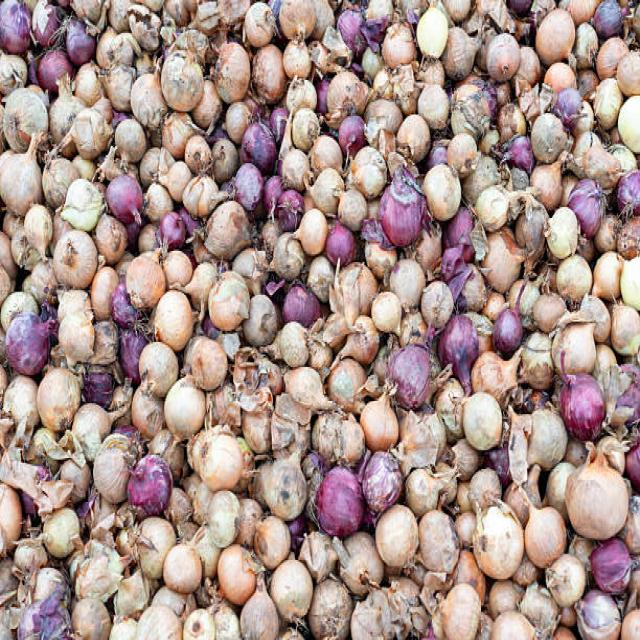mechanical_damage: (437, 310, 480, 390), (47, 74, 85, 146), (513, 198, 549, 260), (578, 136, 622, 186), (240, 118, 276, 174), (126, 1, 163, 52), (117, 326, 150, 383), (281, 281, 320, 329), (102, 60, 137, 113), (502, 474, 537, 527), (441, 204, 476, 256), (37, 47, 73, 97), (232, 162, 266, 214), (88, 317, 121, 367), (613, 367, 640, 428), (110, 278, 141, 330), (64, 16, 96, 66), (491, 306, 523, 356), (324, 216, 356, 266), (30, 0, 64, 47), (141, 179, 175, 226), (497, 133, 534, 176), (30, 563, 67, 606), (146, 426, 179, 474), (170, 27, 210, 66), (551, 85, 584, 132), (9, 222, 40, 272), (593, 431, 629, 474), (207, 378, 238, 427), (449, 436, 482, 482), (388, 574, 421, 620), (413, 226, 442, 278), (337, 8, 369, 55), (209, 137, 240, 185), (81, 365, 115, 408), (15, 597, 49, 640), (94, 141, 128, 184), (27, 259, 58, 306), (188, 476, 216, 526), (28, 427, 62, 468), (364, 238, 396, 281), (571, 20, 599, 69), (514, 276, 542, 325), (151, 584, 189, 620), (496, 100, 527, 144), (337, 113, 367, 158), (275, 188, 305, 232), (458, 265, 486, 312), (398, 309, 429, 350), (157, 209, 187, 251), (188, 0, 223, 35), (474, 0, 511, 33), (615, 168, 640, 216), (0, 50, 26, 96), (138, 146, 166, 188), (593, 0, 623, 39), (615, 213, 640, 259), (484, 444, 512, 485), (89, 491, 117, 532), (440, 242, 470, 280), (306, 332, 334, 372), (262, 174, 286, 218), (107, 383, 134, 422), (416, 56, 446, 91), (570, 129, 598, 166), (567, 535, 595, 572), (70, 0, 104, 30), (306, 38, 332, 77), (260, 216, 282, 259), (51, 213, 76, 250), (107, 0, 135, 33), (623, 436, 639, 493), (286, 512, 308, 552), (177, 207, 201, 243), (163, 0, 195, 27), (268, 105, 290, 144), (361, 44, 384, 80), (90, 92, 114, 126), (528, 0, 554, 30), (424, 142, 448, 172), (110, 422, 141, 445), (575, 69, 596, 102), (2, 210, 23, 242), (137, 223, 158, 254), (315, 76, 331, 114), (27, 52, 43, 88), (134, 52, 155, 78), (202, 311, 220, 338)
rotten: (562, 447, 628, 541), (1, 447, 74, 518), (471, 497, 526, 579), (558, 353, 606, 442), (378, 165, 428, 246), (0, 130, 46, 218), (315, 464, 366, 538), (255, 449, 308, 519), (328, 529, 383, 596), (72, 541, 127, 606), (191, 427, 245, 492), (396, 403, 446, 471), (5, 309, 54, 376), (385, 342, 432, 411), (228, 348, 277, 414), (523, 496, 567, 568), (36, 366, 82, 434), (478, 229, 525, 295), (203, 199, 252, 262), (130, 516, 176, 582), (2, 86, 48, 152), (374, 504, 419, 571), (416, 508, 460, 576), (306, 574, 352, 639), (312, 408, 365, 464), (268, 557, 312, 623), (470, 348, 520, 406), (128, 453, 174, 516), (159, 47, 204, 111), (52, 228, 98, 290), (92, 438, 135, 503), (162, 377, 207, 439), (360, 450, 402, 516), (238, 575, 280, 640), (525, 406, 567, 471), (460, 391, 504, 453), (552, 316, 597, 376), (358, 389, 399, 453), (58, 178, 104, 235), (438, 582, 483, 640), (152, 290, 194, 352), (216, 544, 258, 606), (324, 356, 369, 413), (212, 41, 252, 105), (542, 550, 586, 608), (336, 259, 380, 317), (125, 251, 167, 311), (518, 580, 562, 637), (207, 273, 250, 331), (404, 464, 448, 520), (565, 177, 604, 240), (68, 104, 110, 162), (534, 8, 576, 66), (129, 70, 168, 132), (1, 374, 41, 434), (70, 402, 112, 459), (324, 69, 366, 126), (588, 536, 630, 593), (137, 339, 178, 397), (187, 334, 228, 392), (448, 83, 489, 141), (371, 62, 416, 114), (161, 541, 203, 595), (57, 308, 96, 366), (422, 163, 461, 221), (575, 588, 621, 637), (252, 514, 292, 570), (190, 521, 228, 579), (297, 530, 337, 585), (440, 25, 480, 80), (284, 364, 328, 414), (272, 390, 314, 442), (41, 507, 82, 560), (530, 111, 570, 165), (348, 590, 391, 640), (130, 381, 167, 439), (206, 490, 243, 548), (348, 146, 387, 201), (105, 171, 143, 227), (250, 42, 285, 102), (460, 154, 500, 206), (518, 331, 555, 387), (388, 257, 425, 312), (181, 172, 223, 220), (483, 30, 521, 83), (242, 293, 279, 347), (555, 252, 592, 306), (112, 566, 150, 618), (545, 204, 580, 259), (41, 155, 76, 210), (544, 460, 577, 518), (433, 380, 466, 438), (69, 596, 112, 640), (94, 210, 129, 264), (452, 549, 485, 606), (270, 230, 306, 282), (134, 601, 182, 640), (416, 82, 452, 134), (22, 202, 54, 260), (308, 166, 345, 216), (466, 466, 503, 516), (343, 314, 380, 364), (95, 26, 133, 74), (529, 158, 564, 210), (161, 110, 197, 160), (380, 20, 416, 70), (395, 113, 431, 163), (276, 318, 312, 367), (591, 75, 623, 130), (419, 280, 454, 330), (474, 185, 512, 231), (0, 290, 38, 336), (89, 264, 119, 322), (276, 0, 317, 42), (190, 78, 223, 130), (241, 403, 274, 455), (182, 260, 217, 309), (609, 298, 639, 355), (364, 96, 401, 142), (591, 251, 623, 304), (113, 116, 147, 165), (0, 0, 31, 53), (317, 24, 351, 72), (235, 494, 265, 548), (295, 207, 328, 256), (578, 293, 611, 342), (531, 288, 567, 332), (243, 2, 278, 47), (444, 132, 478, 177), (370, 290, 403, 336), (162, 158, 195, 204), (280, 146, 312, 193), (0, 481, 23, 546), (72, 61, 104, 107), (595, 36, 627, 82), (281, 36, 312, 83), (336, 187, 368, 232), (488, 608, 536, 638), (13, 535, 47, 577), (161, 248, 195, 290), (223, 100, 254, 146), (310, 133, 343, 176), (306, 254, 336, 301), (290, 107, 321, 152), (284, 77, 317, 119), (617, 94, 640, 152), (487, 579, 521, 618), (183, 134, 213, 178), (211, 599, 243, 640), (619, 251, 640, 311), (56, 286, 90, 323), (616, 48, 640, 98), (542, 61, 576, 94), (182, 606, 217, 638), (516, 81, 542, 124), (215, 0, 250, 31), (566, 0, 599, 27), (107, 614, 139, 638), (442, 0, 473, 24)
